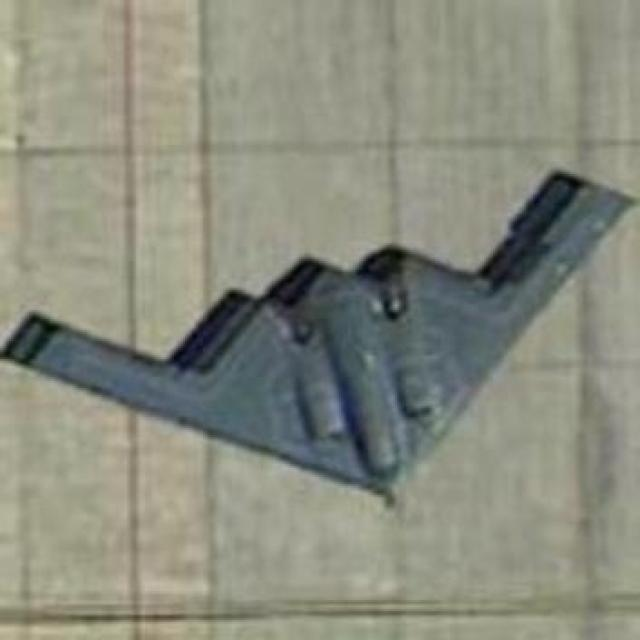B-2_TopDown: (0, 163, 638, 511)
